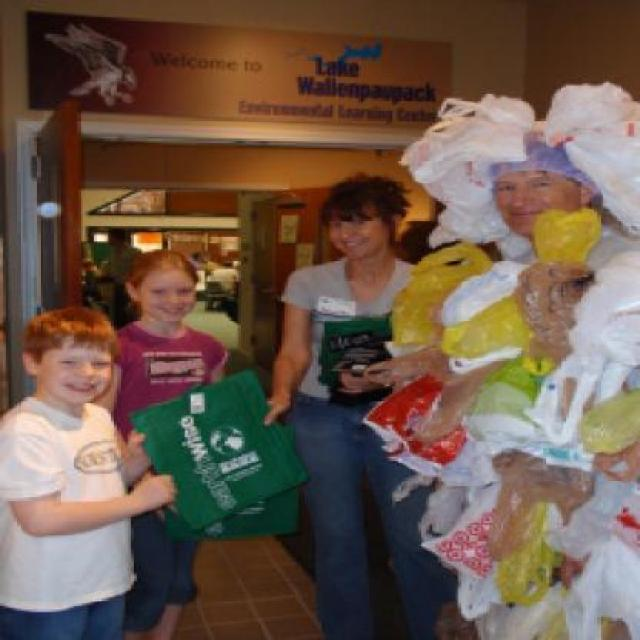plastic bag: (358, 81, 637, 638)
